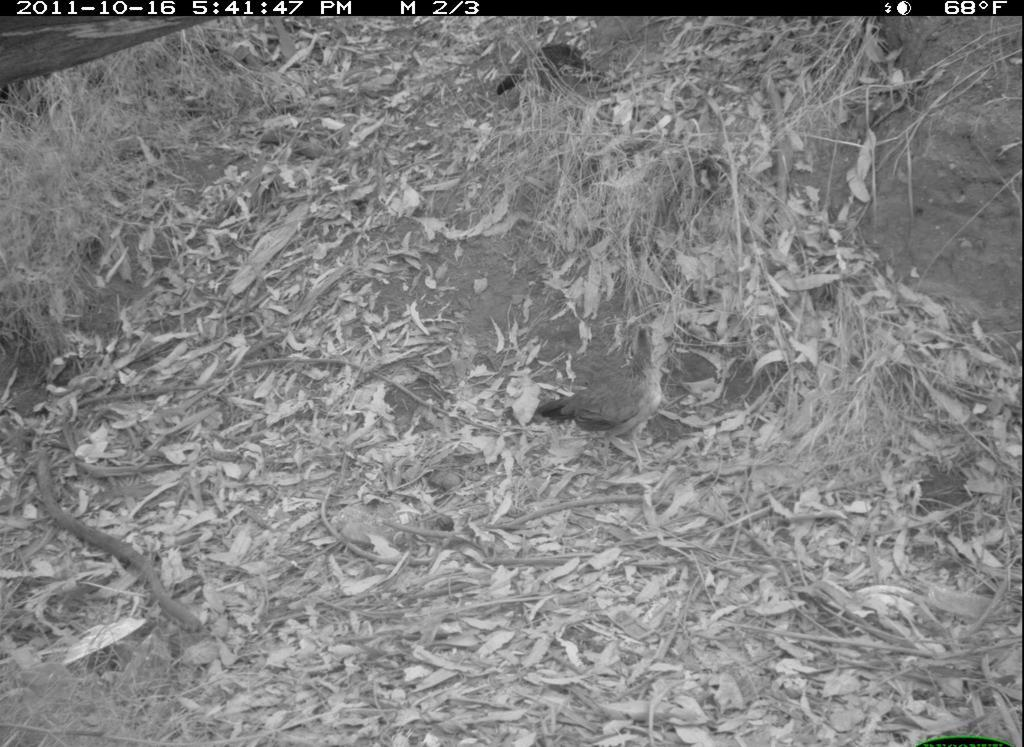bird: (537, 318, 681, 481)
